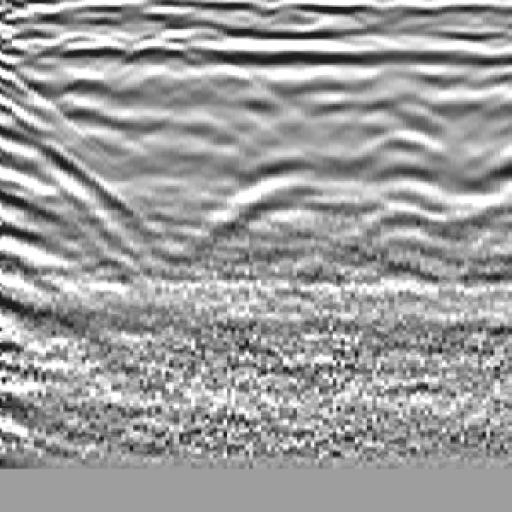metalic: (182, 130, 364, 270)
nonmetalic: (1, 43, 102, 277)
